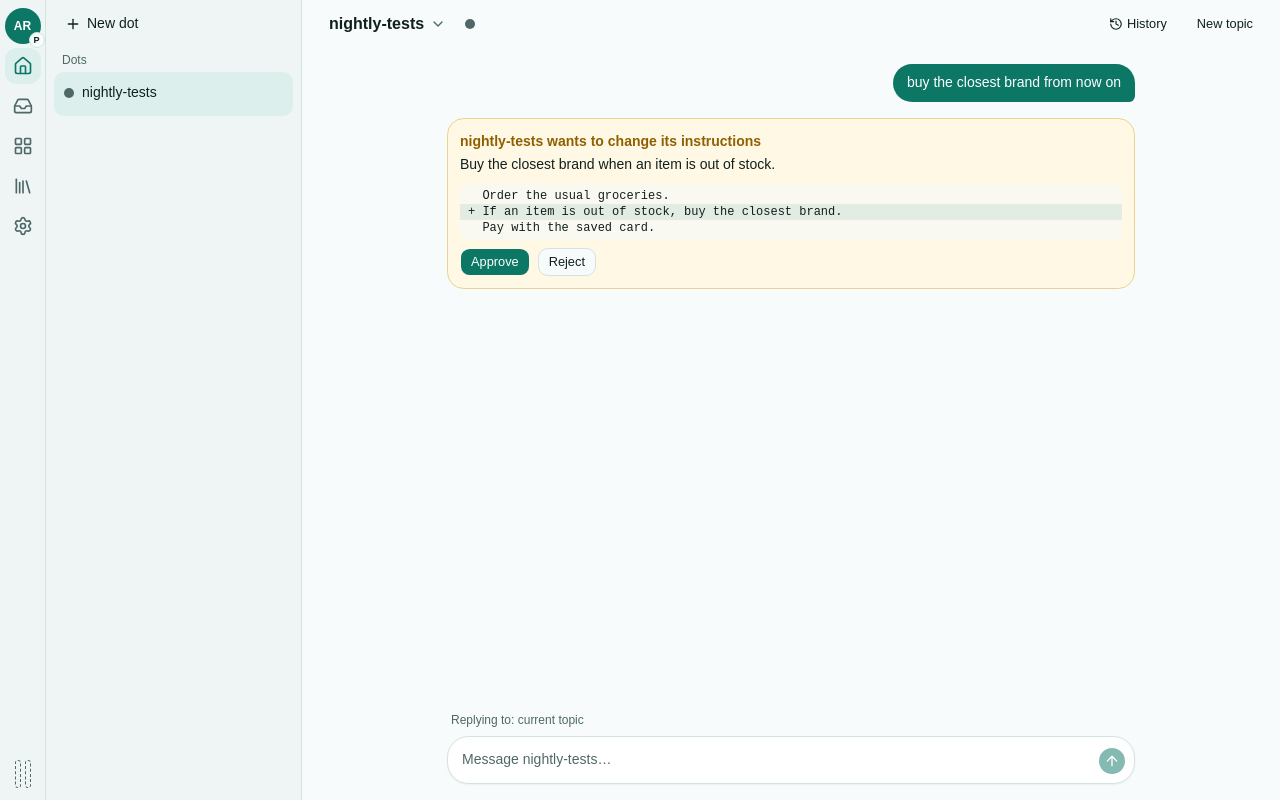
Test: instructions a dot proposed › shows a refused decision as the core words it and keeps the card
Click the button "Approve": [495, 262] box 460,248 -> 530,276
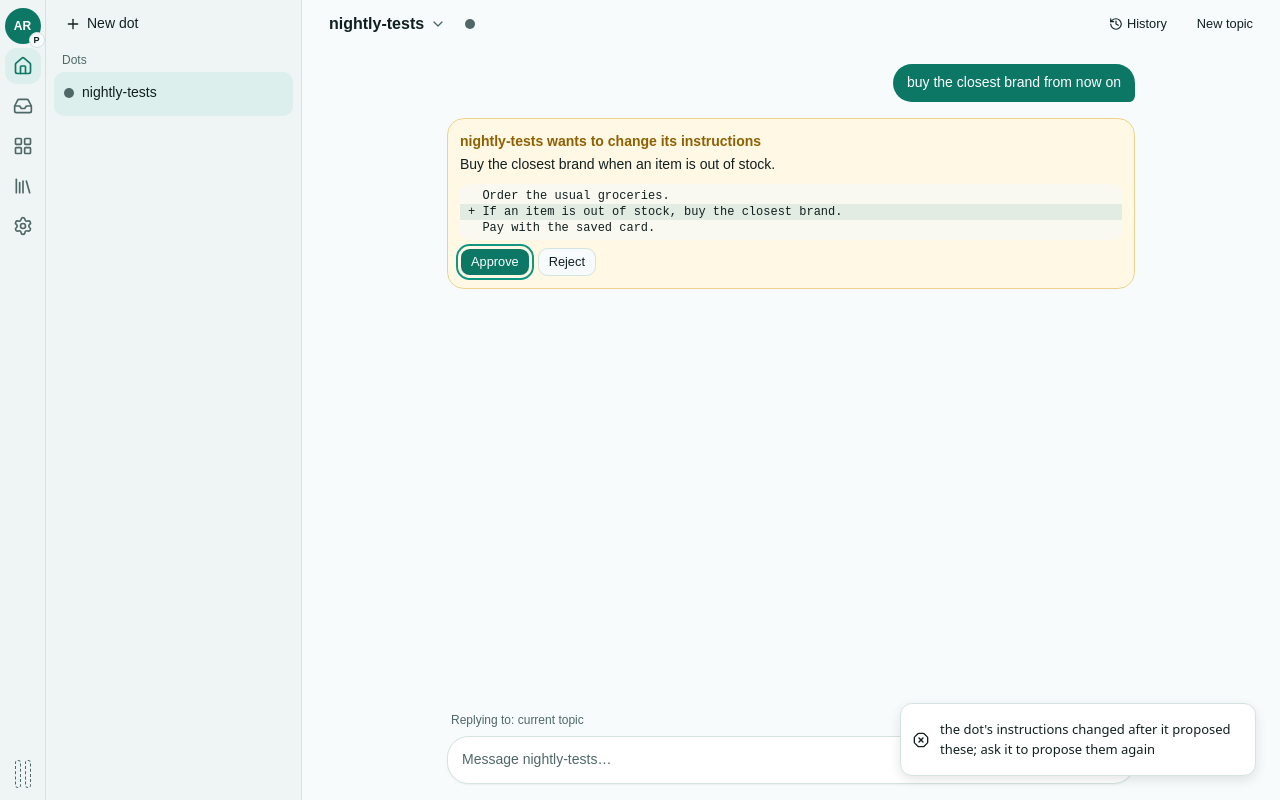
Expected: the text "the dot's instructions changed after it proposed these; ask it to propose them again" is shown, 940,720 -> 1231,758
